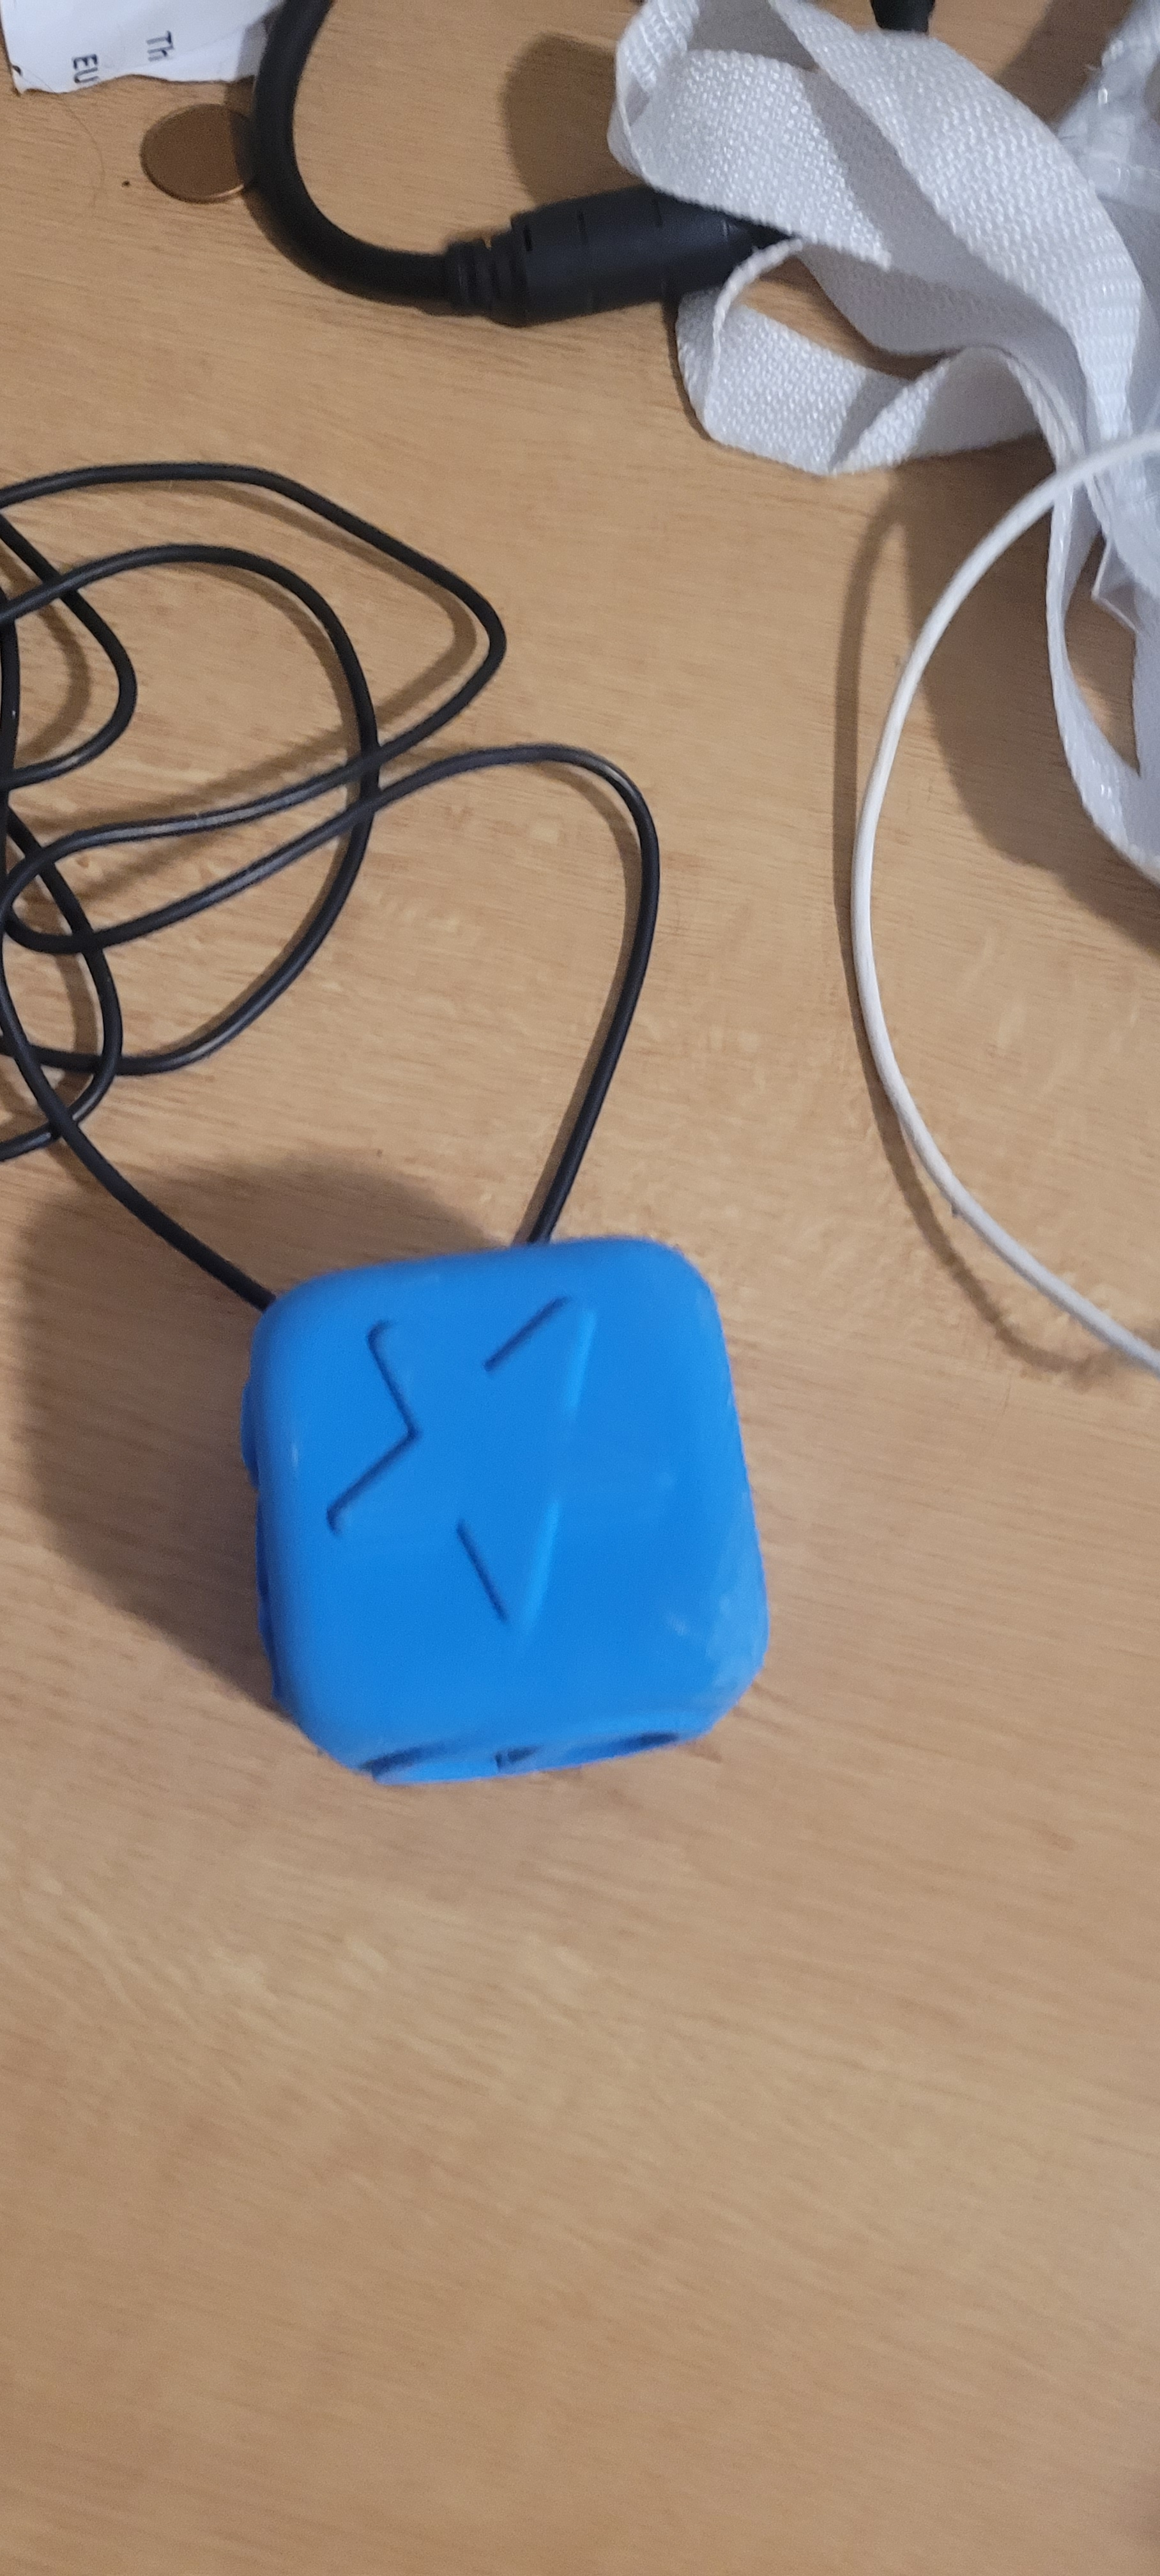Star: (301, 1311, 665, 1646)
